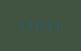nine: (17, 18, 23, 30), (32, 19, 38, 30), (46, 20, 52, 31), (53, 20, 59, 31)
one: (39, 19, 45, 31)
three: (24, 19, 30, 30)
